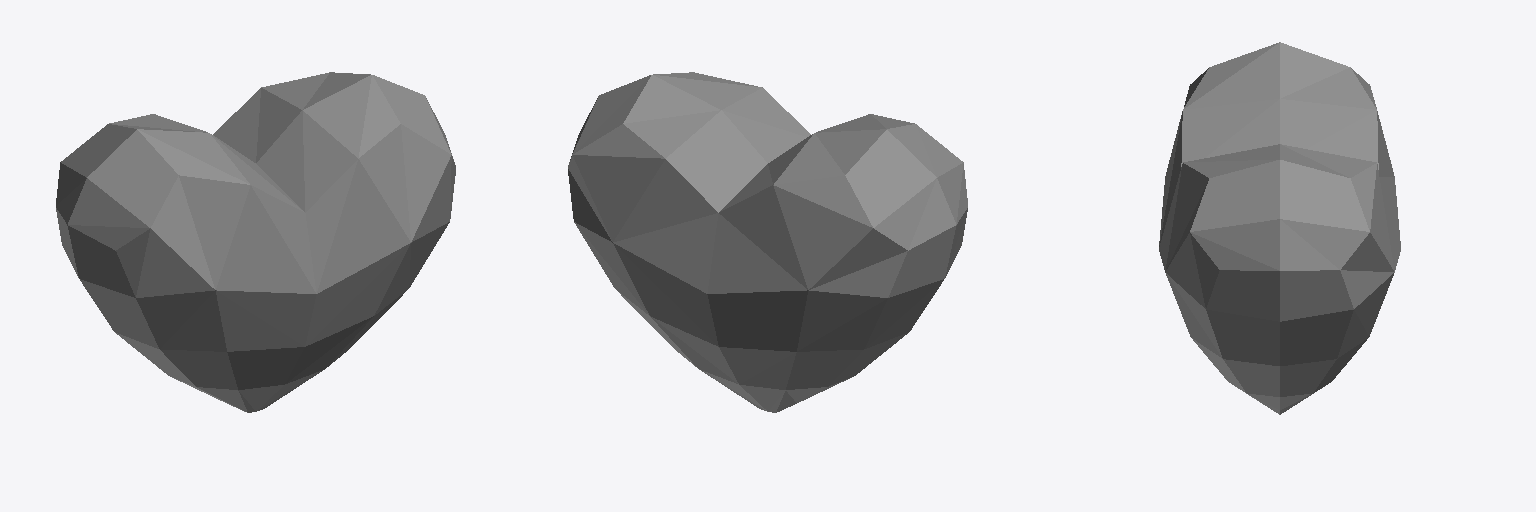
Rendered from Heart.obj.
3 views of the same model, side by side, from view 1: azimuth 30°, elevation 25°; view 2: azimuth 150°, elevation 25°; view 3: azimuth 270°, elevation 25° (orthographic).
Parts seen in each view (by area): view 1: Box004; view 2: Box004; view 3: Box004.
Part boxes in pixels (left/top/right/bottom): Box004: left=56, top=72, right=455, bottom=412; Box004: left=568, top=72, right=967, bottom=412; Box004: left=1159, top=42, right=1400, bottom=414.
Bounding box in the file's own units: 72.52 × 57.24 × 40.37.